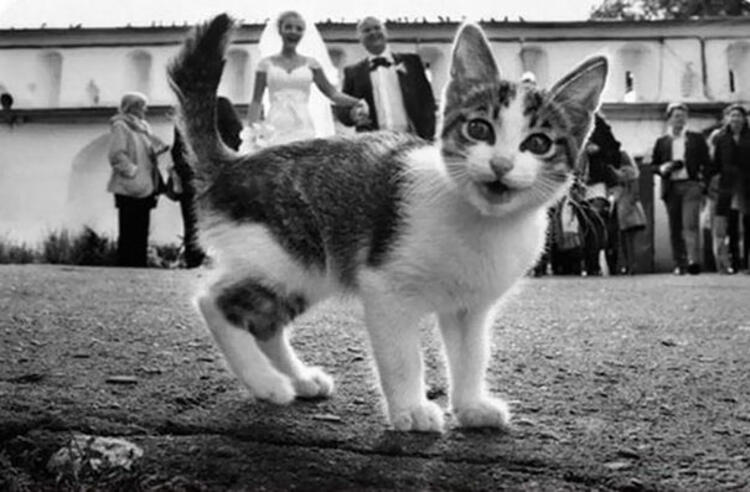cat: (318, 70, 613, 273)
